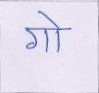o_matra: (50, 15, 63, 52)
